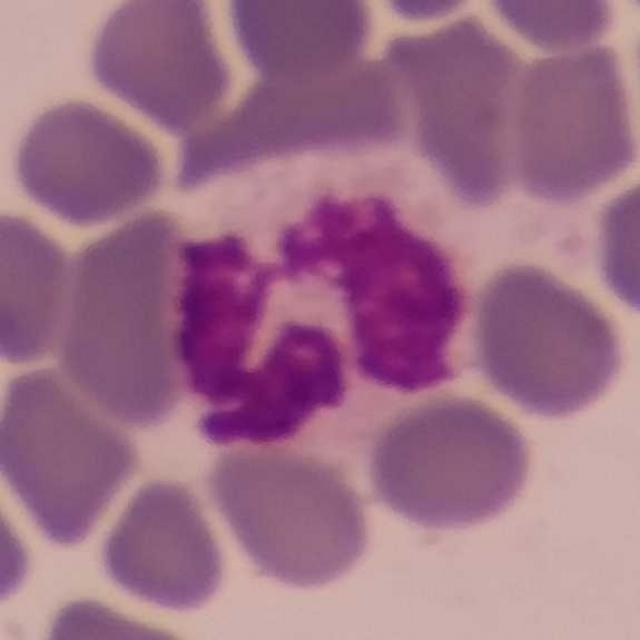Neutrophil: (171, 143, 496, 448)
RBC: (50, 204, 238, 430), (200, 422, 381, 598), (466, 256, 634, 424), (0, 357, 144, 550), (401, 8, 531, 214), (361, 390, 541, 538), (502, 32, 639, 208), (5, 92, 172, 228), (92, 472, 234, 618), (81, 0, 237, 128), (220, 0, 378, 85), (0, 202, 78, 370), (29, 591, 220, 640), (587, 164, 640, 328), (476, 0, 626, 55), (0, 460, 39, 620), (380, 0, 479, 27)
